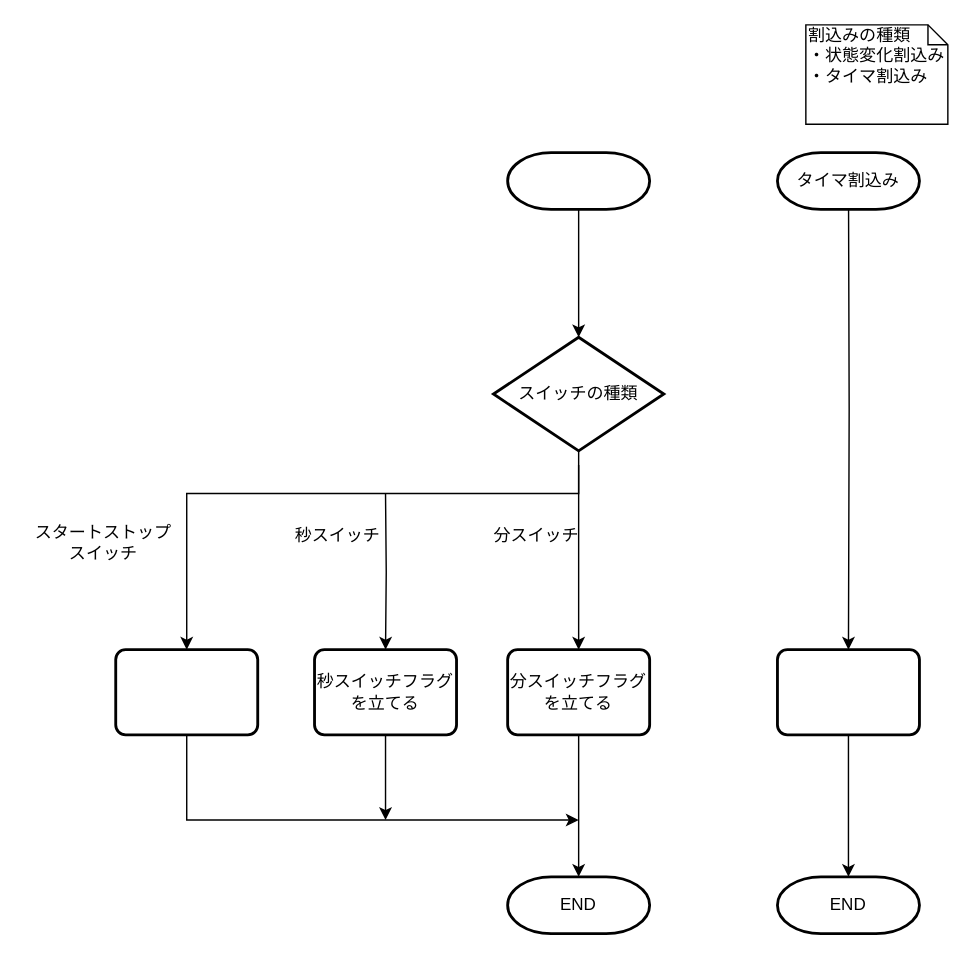
This 973x960 diagram has some shape labels left out. The centre of each missing label's shape, as x and y in pixels:
"カウント時間を 1増加させる" belongs at point (847, 692).
"スタートストップスイッチフラグを 立てる" belongs at point (186, 692).
"外部割込み" belongs at point (578, 180).
